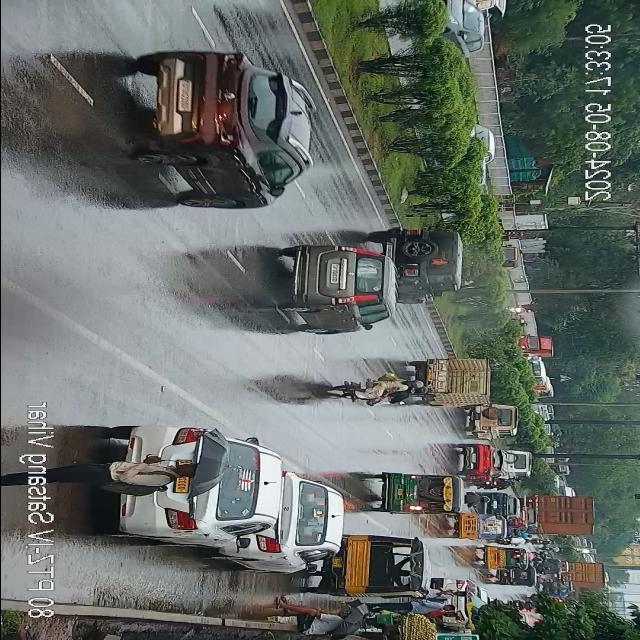2-wheelers: (332, 376, 414, 408), (504, 527, 532, 545), (472, 479, 516, 489), (528, 552, 548, 566), (529, 538, 554, 546), (509, 306, 531, 314), (542, 545, 564, 551)
auto: (334, 535, 422, 597), (378, 473, 458, 512), (458, 509, 504, 537), (481, 545, 526, 569), (497, 236, 521, 272), (498, 566, 538, 584), (542, 558, 558, 574)
car: (134, 48, 301, 212), (105, 427, 279, 552), (276, 246, 402, 332), (242, 476, 342, 568), (398, 228, 457, 304), (440, 1, 490, 55), (472, 404, 516, 440), (459, 441, 495, 481), (497, 450, 533, 478), (434, 576, 486, 592), (485, 494, 519, 514), (510, 508, 539, 530)
pedestrian: (59, 448, 205, 493), (280, 598, 358, 634), (384, 595, 457, 615), (428, 588, 464, 598)
truck: (422, 351, 486, 406), (534, 495, 596, 536), (571, 560, 607, 589), (517, 334, 553, 358)
